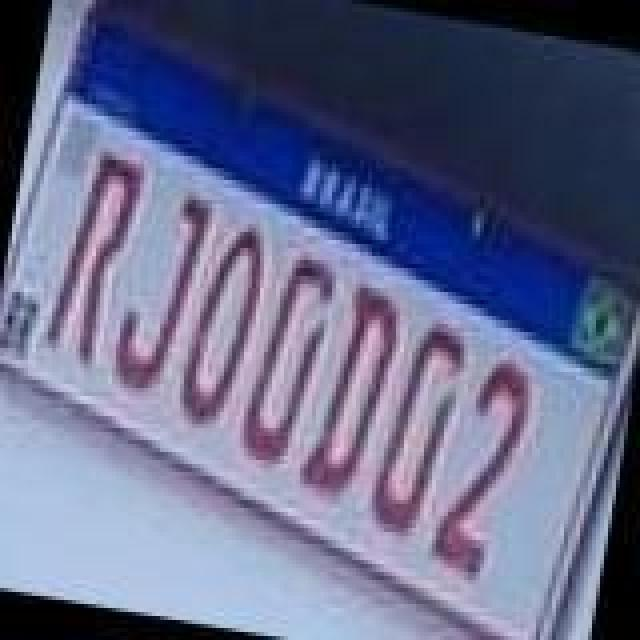2: (422, 346, 538, 582)
D: (300, 276, 412, 500), (236, 248, 340, 472), (368, 316, 472, 540)
J: (108, 180, 220, 396)
O: (172, 218, 276, 430)
R: (38, 144, 154, 376)
